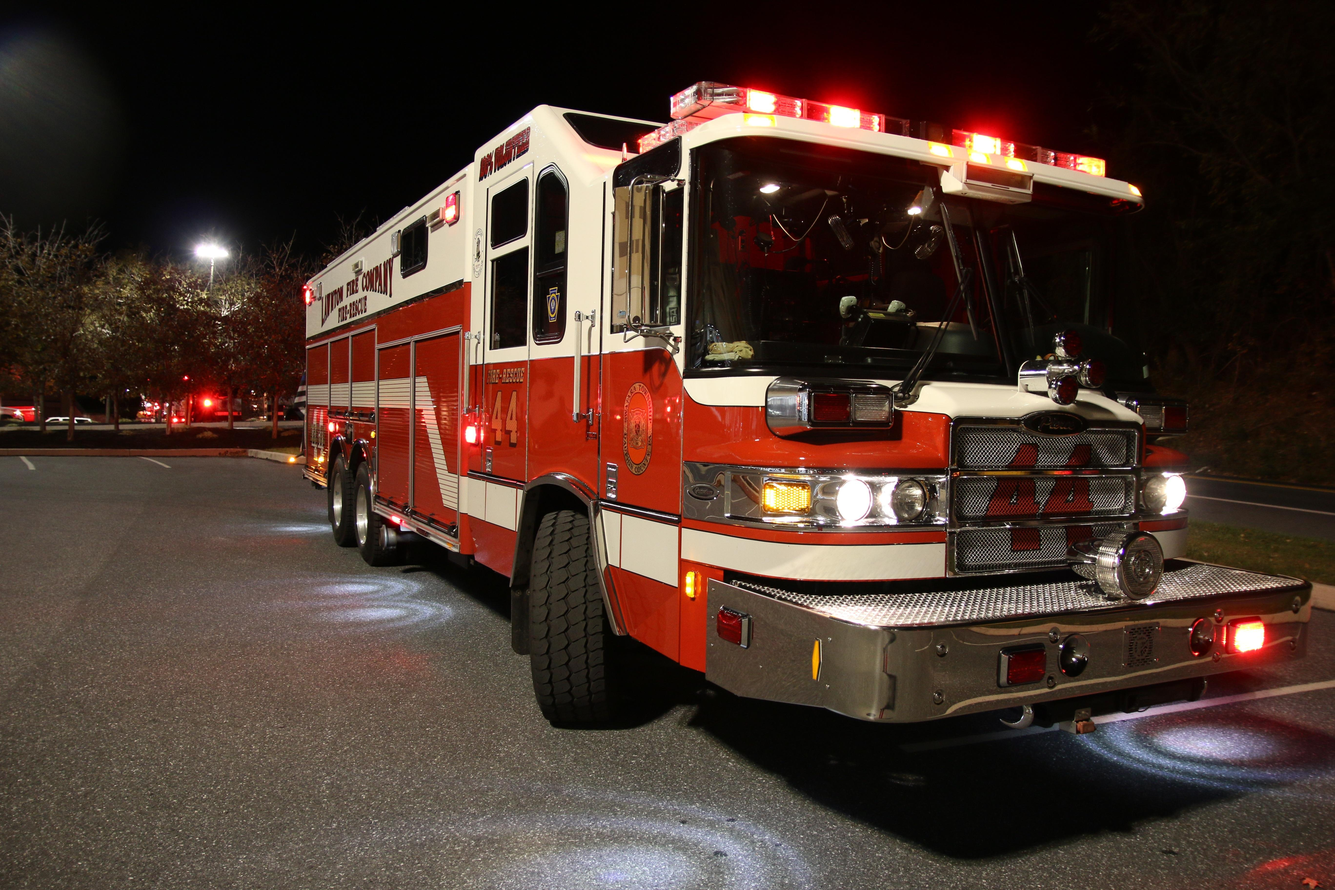Fire-engine: (295, 86, 1317, 733)
